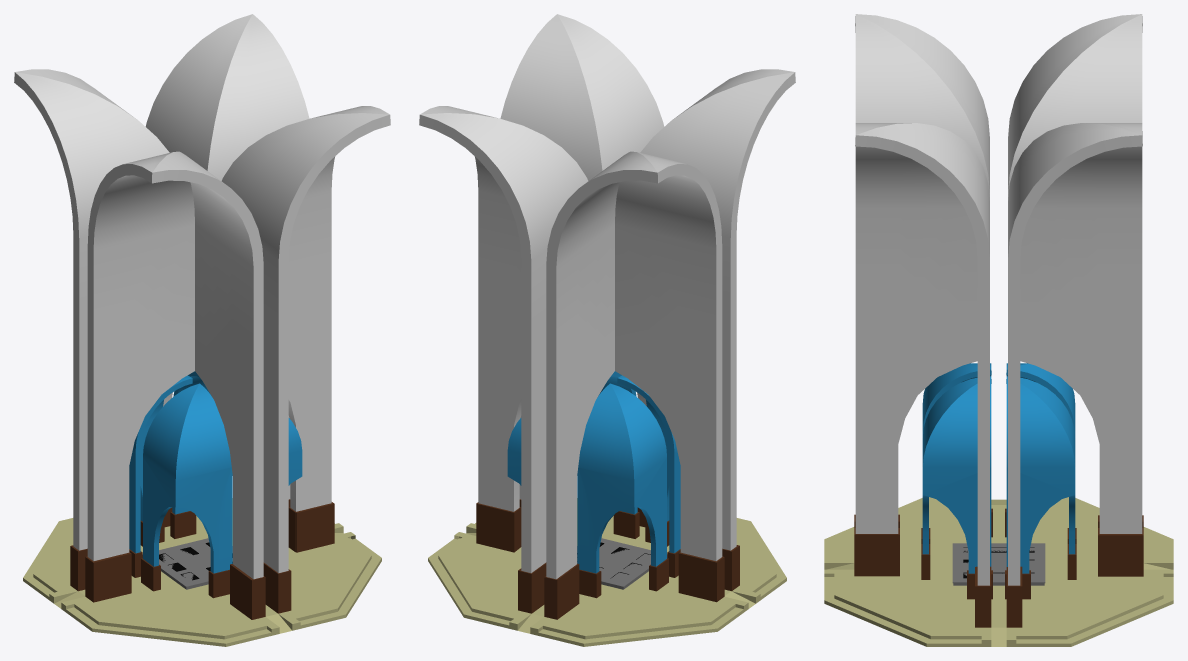
File: shahid.fbx
The picture shows the model from 3 angles, left to right: view 1: azimuth 30°, elevation 25°; view 2: azimuth 150°, elevation 25°; view 3: azimuth 270°, elevation 25°; orthographic projection. The views are drawn at different scales.
Parts seen in each view (by area): view 1: Cube, Circle, Cube.006, Cube.009, Cube.010, Plane; view 2: Cube, Circle, Cube.006, Cube.009, Cube.010, Plane; view 3: Cube, Circle, Cube.006, Cube.009, Plane, Cube.010.
Boxes of the visible parts, bbox=[...] form: Cube: bbox=[14, 14, 390, 579]; Circle: bbox=[23, 498, 381, 646]; Cube.006: bbox=[129, 371, 302, 573]; Cube.009: bbox=[70, 499, 334, 619]; Cube.010: bbox=[129, 511, 229, 598]; Plane: bbox=[142, 538, 232, 589]; Cube: bbox=[419, 14, 795, 579]; Circle: bbox=[428, 498, 786, 646]; Cube.006: bbox=[507, 371, 680, 573]; Cube.009: bbox=[476, 500, 739, 619]; Cube.010: bbox=[579, 511, 680, 598]; Plane: bbox=[577, 538, 667, 589]; Cube: bbox=[855, 14, 1142, 585]; Circle: bbox=[824, 497, 1173, 646]; Cube.006: bbox=[922, 363, 1075, 573]; Cube.009: bbox=[854, 514, 1143, 627]; Plane: bbox=[952, 543, 1045, 585]; Cube.010: bbox=[921, 508, 1076, 599].
Size of the model in its own units: 2290 by 3610 by 2290.
